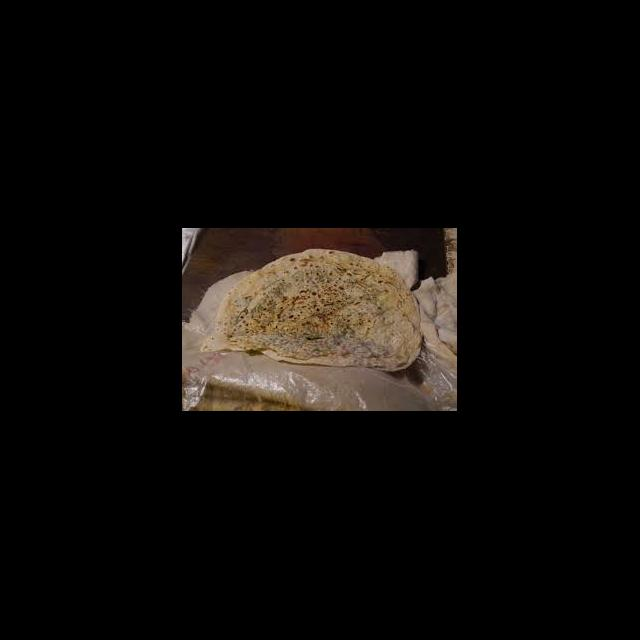food_waste: (196, 244, 426, 379)
